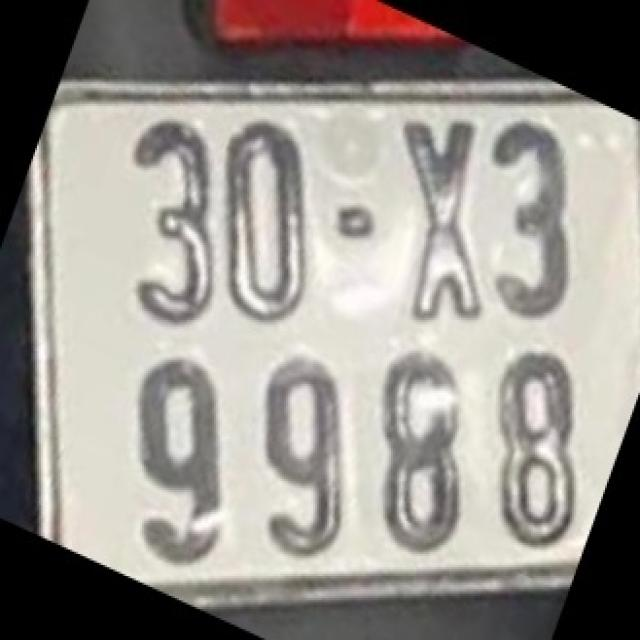0: (223, 115, 310, 324)
3: (126, 116, 216, 328), (488, 116, 576, 319)
8: (378, 341, 466, 555), (496, 346, 578, 550)
9: (130, 352, 228, 564), (257, 348, 346, 560)
X: (404, 114, 480, 321)
